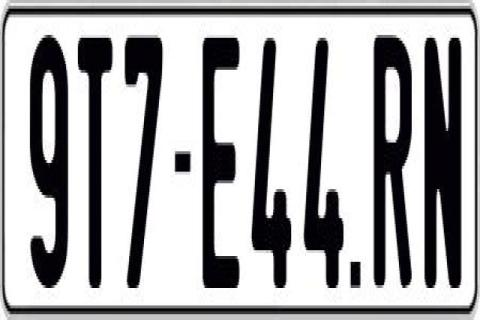0: (302, 29, 345, 294), (248, 32, 290, 291), (29, 32, 70, 296), (122, 35, 162, 294)
E: (202, 32, 239, 288)
N: (425, 35, 465, 285)
R: (374, 26, 414, 291)
T: (77, 32, 115, 282)
